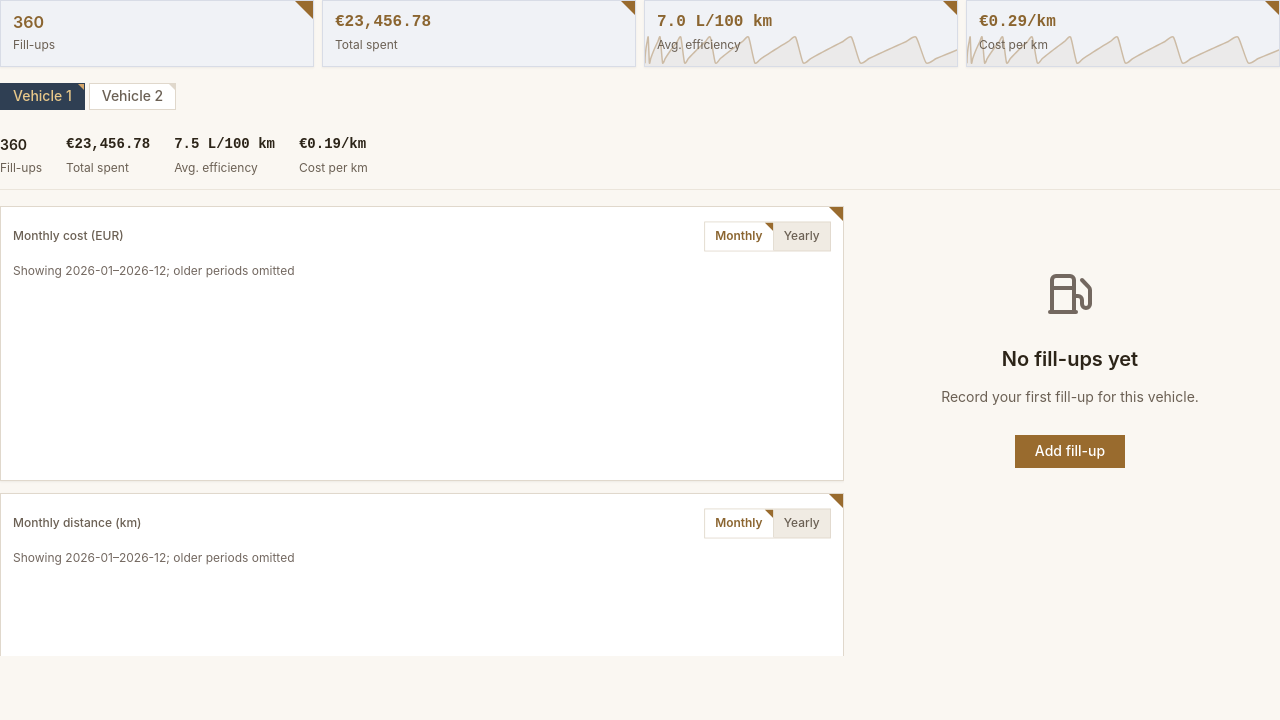
dashboard fill-up mutation refreshes › does not refresh after failed create
The width and height of the screenshot is (1280, 720).
Click the button "Add fill-up": (1070, 451) [1015, 435, 1125, 468]
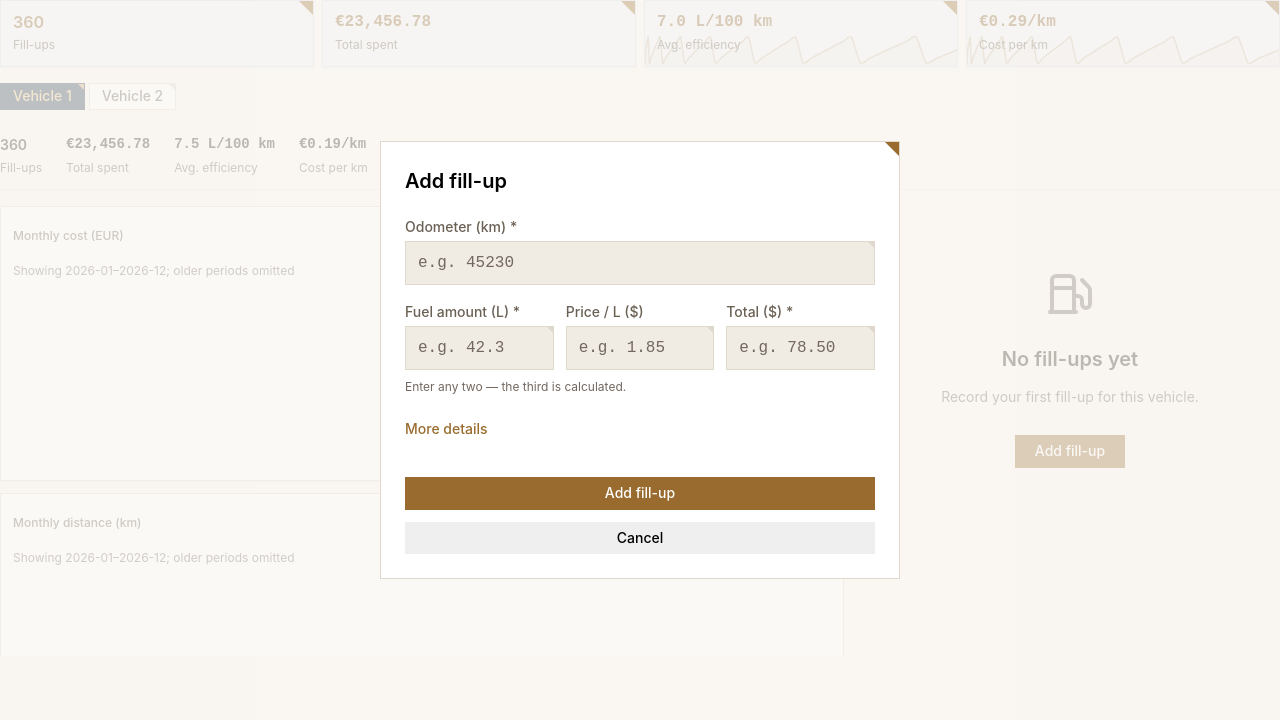
In the field labelled "Odometer (km) *": (640, 263) [405, 241, 875, 285], type "11000"
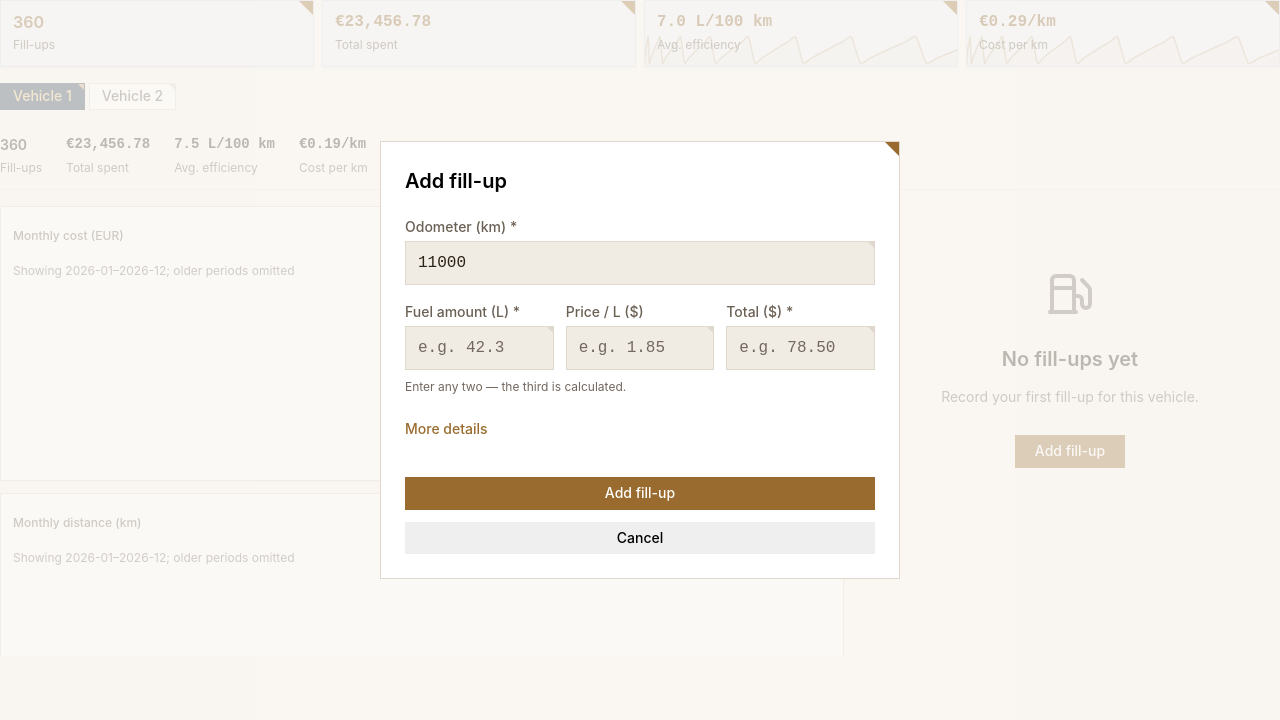
In the field labelled "Fuel amount (L) *": (479, 348) [405, 326, 554, 370], type "40"
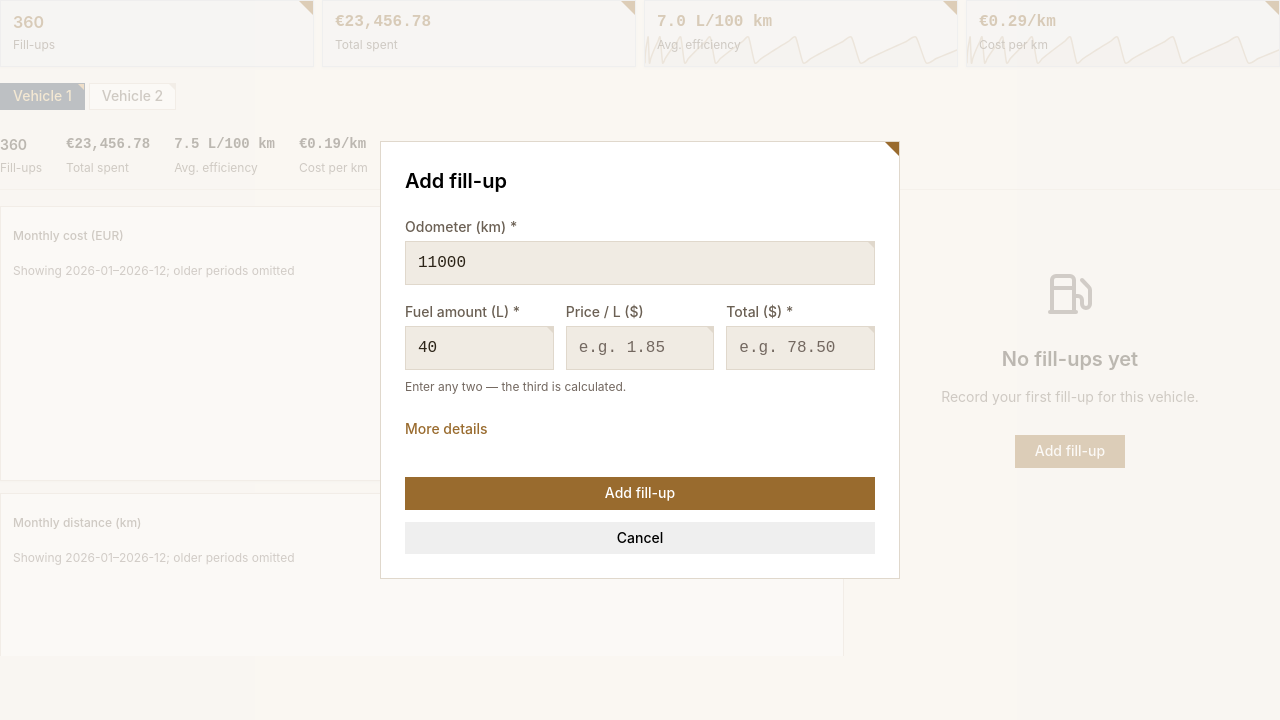
In the field labelled "Total ($) *": (801, 348) [726, 326, 875, 370], type "80"
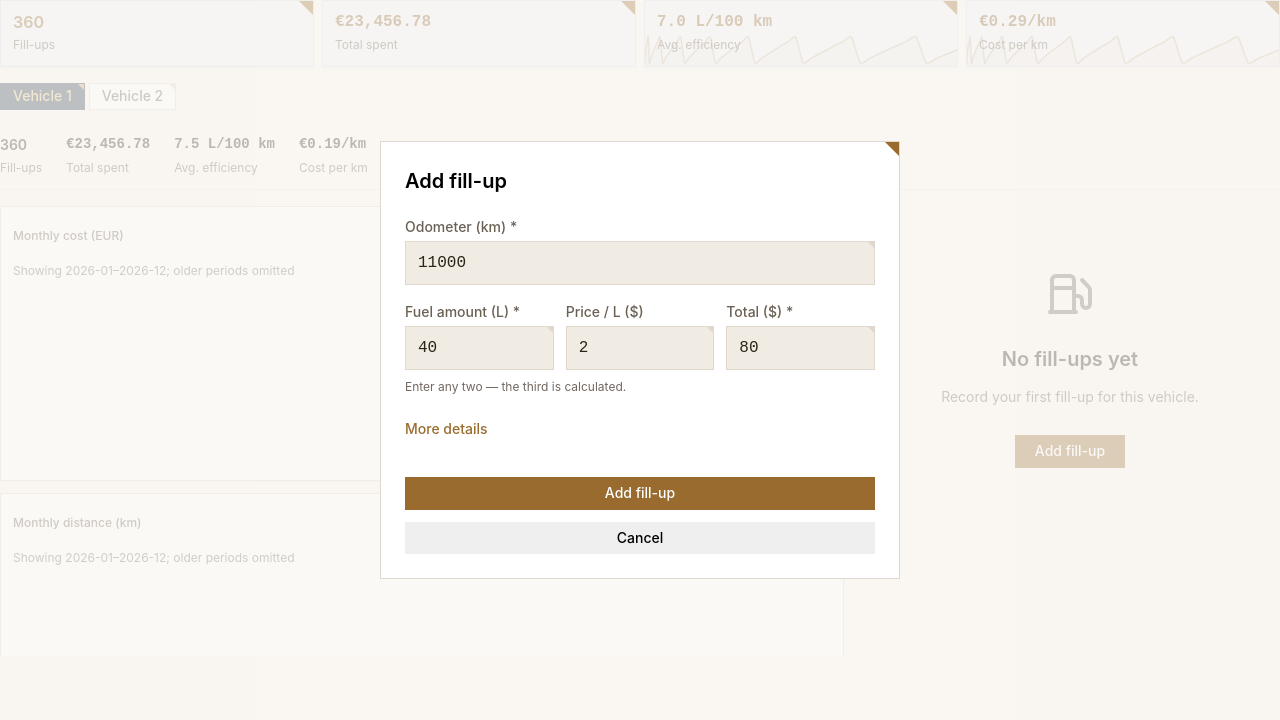
Submit the form, box [405, 216, 875, 554]
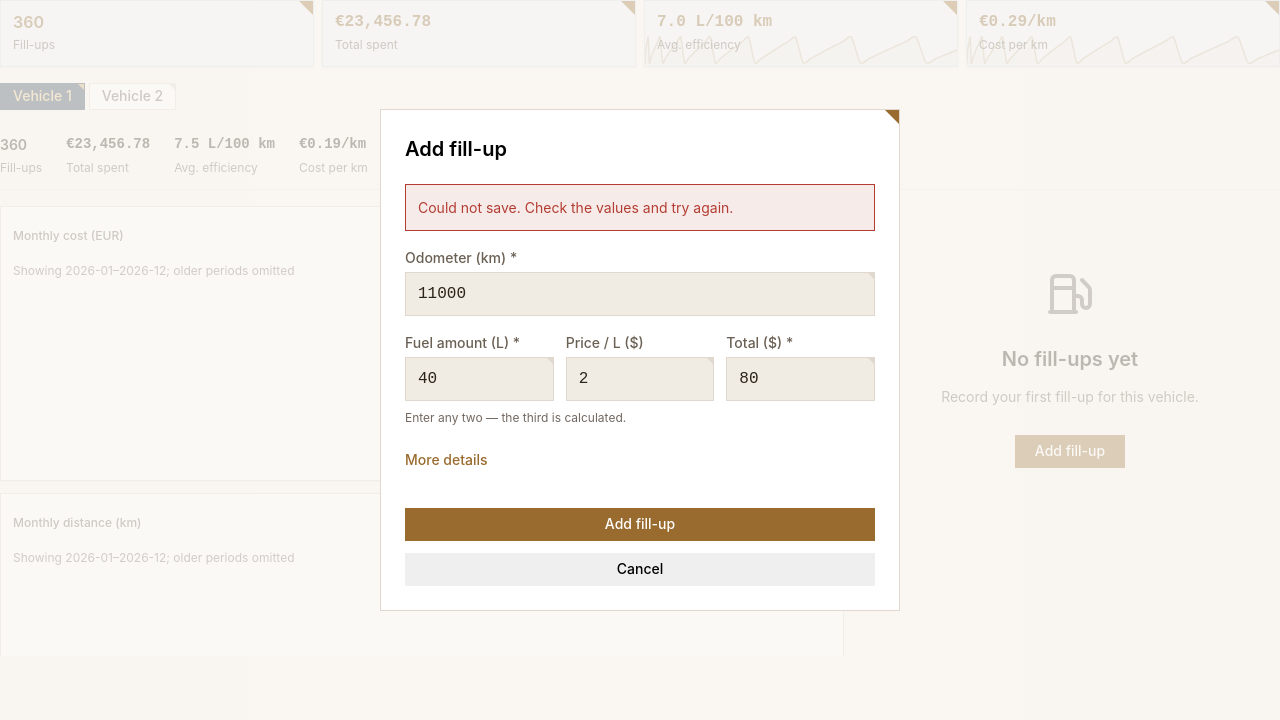
Now the text "Could not save. Check the values and try again." is shown, box [405, 184, 875, 231]
